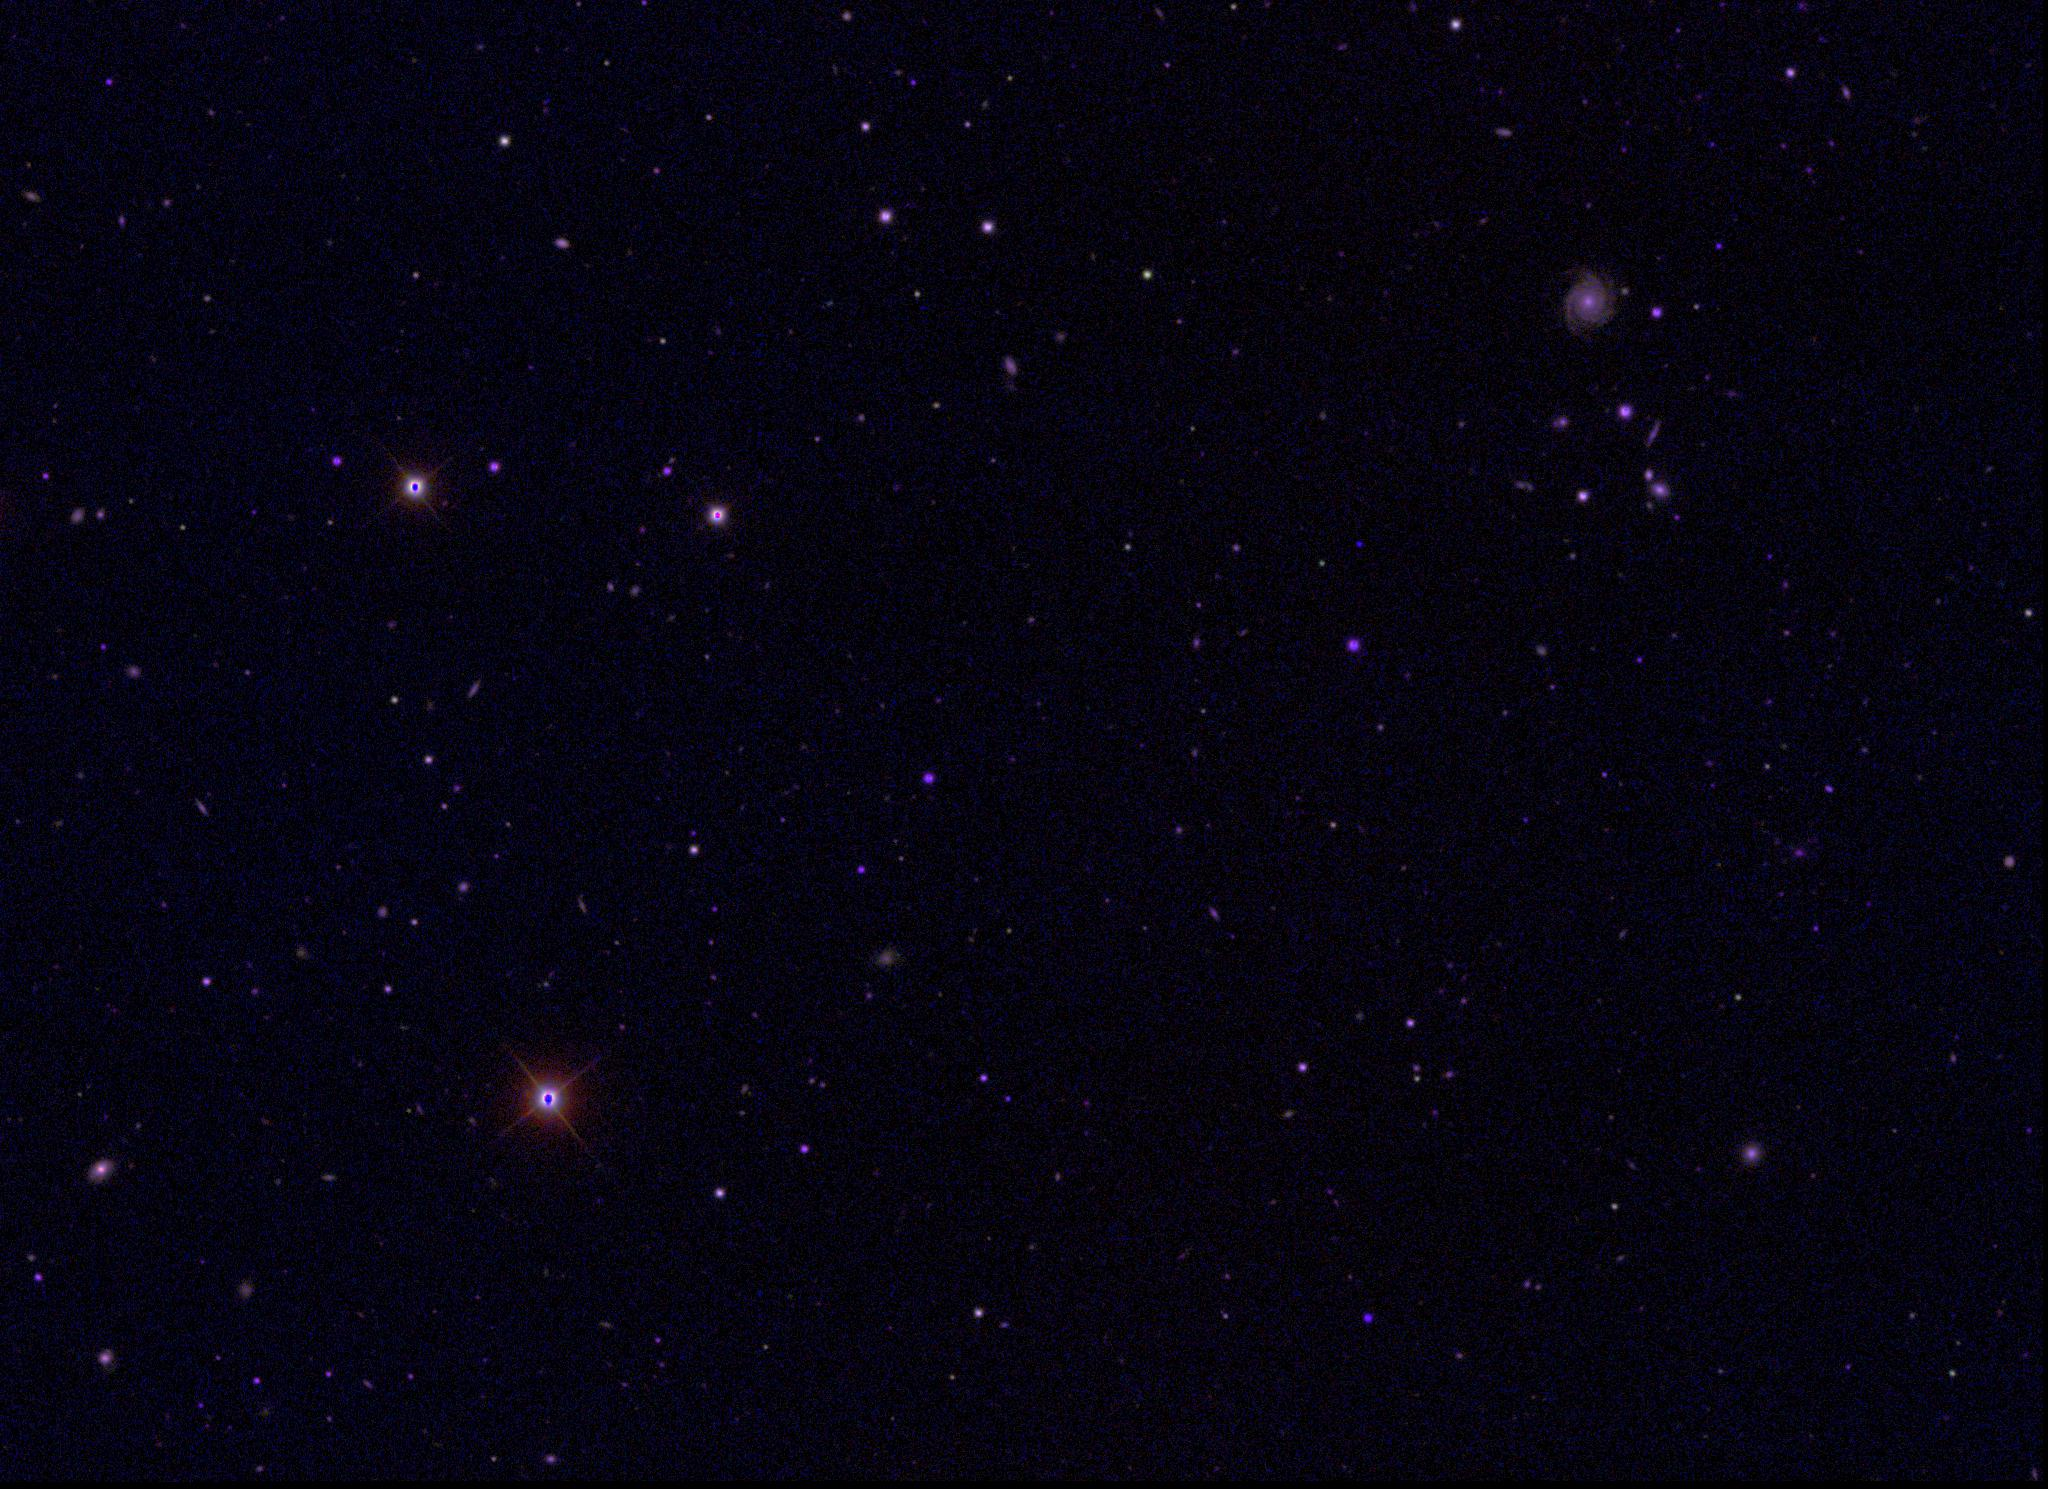L: (1352, 538, 1366, 550)
